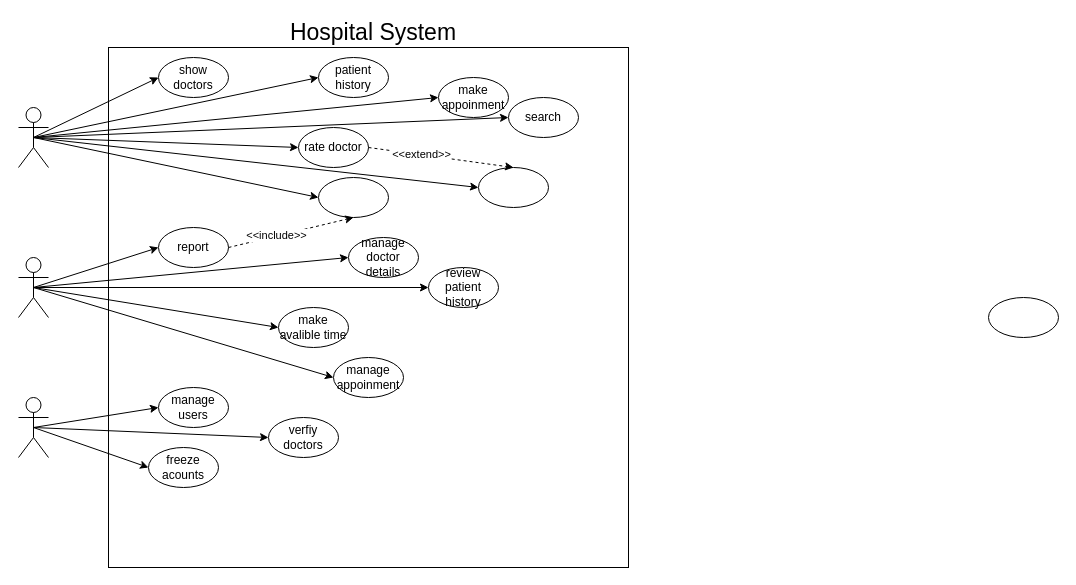
Image size: 1076x585. Some labels were removed from this diagram. Each missing label, with the centre of its shape:
"admin" belongs at [33,427].
"admin report" belongs at [1023,317].
"doctor" belongs at [33,287].
"doctors details" belongs at [513,187].
"notification" belongs at [353,197].
"user" belongs at [33,137].
